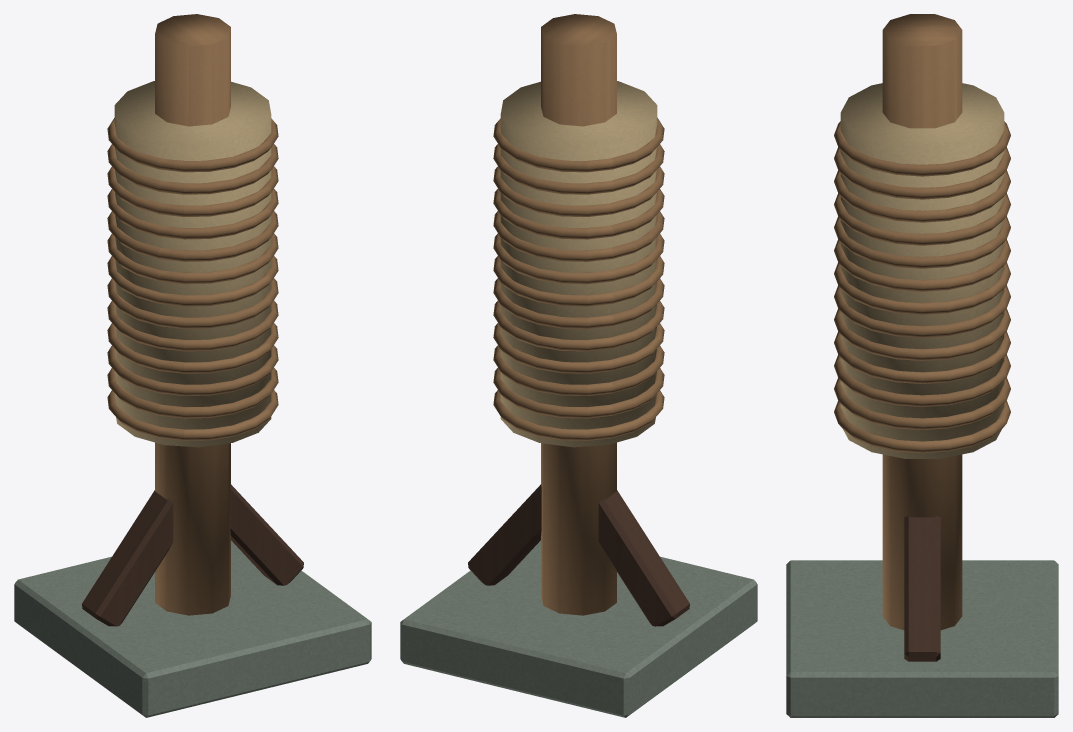
File: striking_post.glb
The picture shows the model from 3 angles, left to right: view 1: azimuth 30°, elevation 25°; view 2: azimuth 150°, elevation 25°; view 3: azimuth 270°, elevation 25°; orthographic projection. The views are drawn at different scales.
Visible parts, largest first — view 1: Training_PracticeWood, Training_WornStone, Training_Rope, Training_Timber; view 2: Training_PracticeWood, Training_WornStone, Training_Rope, Training_Timber; view 3: Training_PracticeWood, Training_WornStone, Training_Rope, Training_Timber.
Part boxes in pixels (x1,y1,x2,y2): Training_PracticeWood: (107, 14, 278, 615); Training_WornStone: (14, 540, 371, 717); Training_Rope: (114, 81, 271, 447); Training_Timber: (82, 484, 303, 626); Training_PracticeWood: (493, 14, 664, 615); Training_WornStone: (400, 540, 757, 717); Training_Rope: (500, 81, 657, 447); Training_Timber: (468, 484, 689, 626); Training_PracticeWood: (834, 14, 1010, 630); Training_WornStone: (786, 560, 1058, 717); Training_Rope: (840, 83, 1004, 458); Training_Timber: (904, 516, 940, 661).
Bounding box in the file's own units: 0.75 × 1.92 × 0.75.
Materials: 4 (4 with a texture image).
